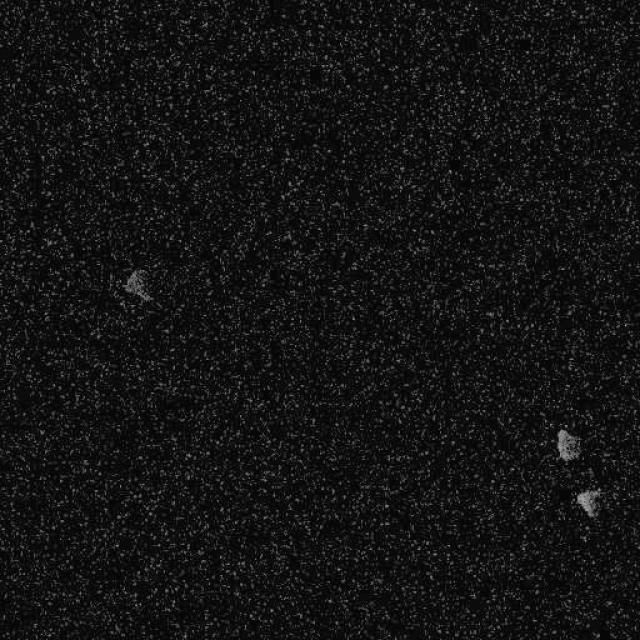D2: (121, 266, 154, 305), (555, 428, 581, 462), (575, 486, 601, 519)
